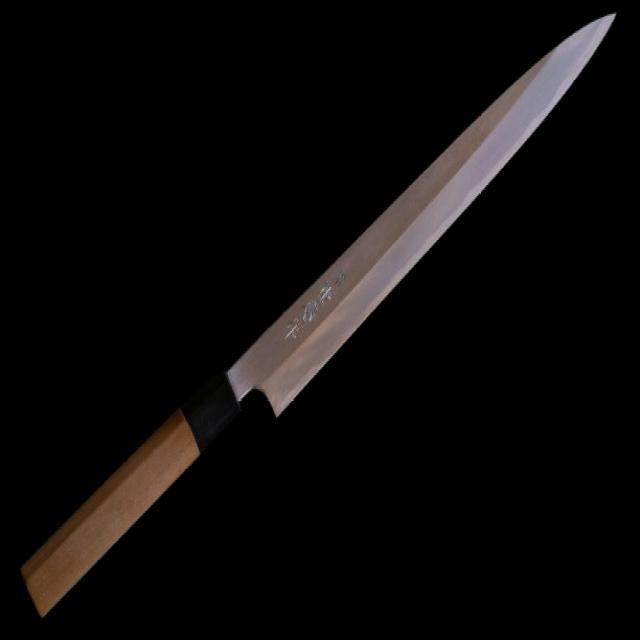knife: (14, 3, 621, 620)
